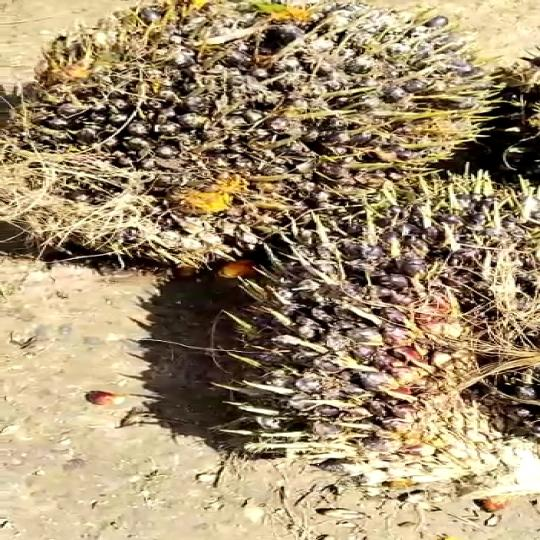mentah: (0, 0, 493, 266), (205, 169, 540, 496)
